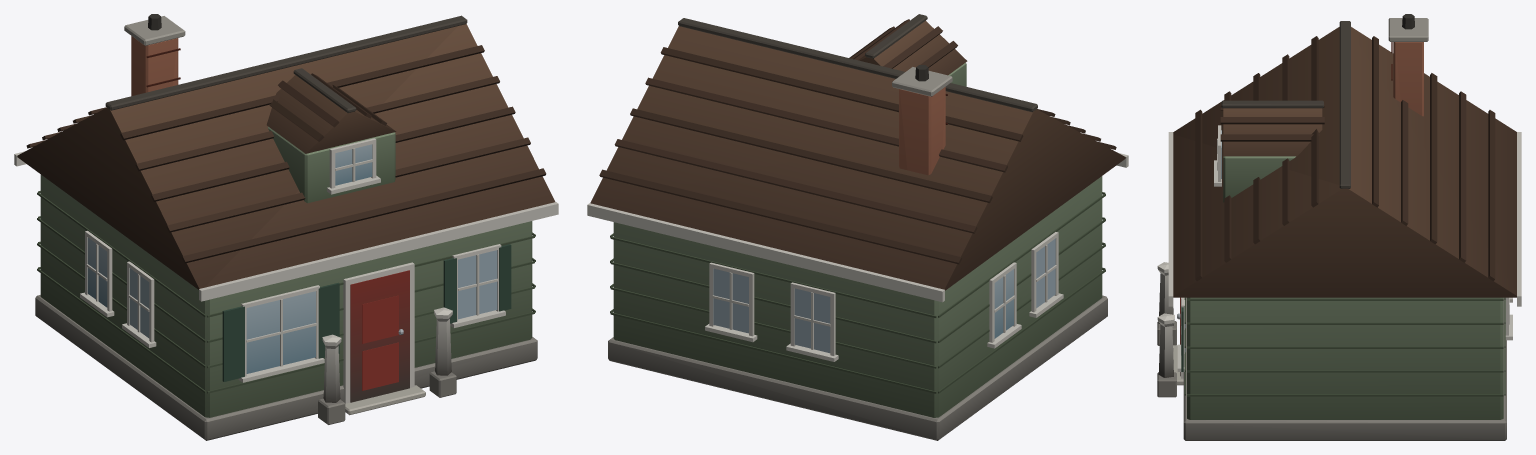
Rendered from bungalow_house.glb.
3 renders of one model, left to right at view 1: azimuth 30°, elevation 25°; view 2: azimuth 150°, elevation 25°; view 3: azimuth 270°, elevation 25°, orthographic. The views are drawn at different scales.
Visible parts, largest first — view 1: bungalow_house; view 2: bungalow_house; view 3: bungalow_house.
Part boxes in pixels (x1,y1,x2,y2): bungalow_house: (14,14,558,440); bungalow_house: (587,14,1128,440); bungalow_house: (1157,14,1521,440).
Bounding box in the file's own units: 5.96 × 5.09 × 5.52.
